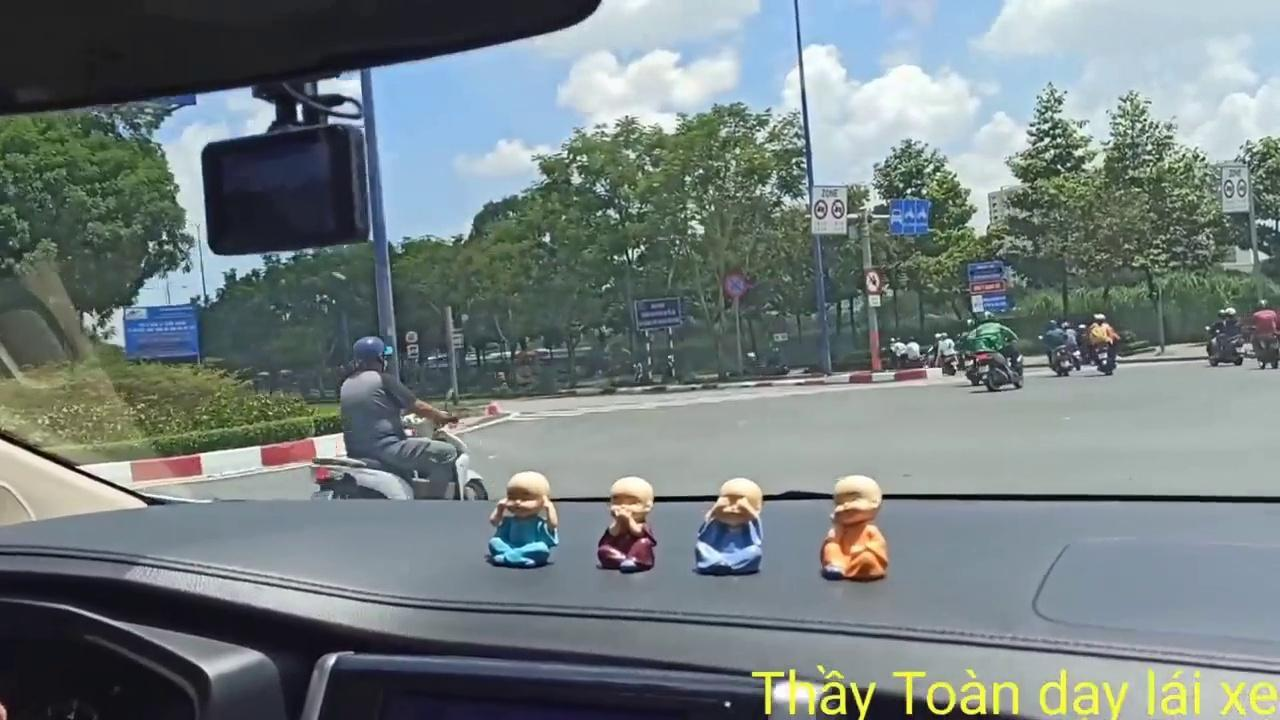Biển phụ: (407, 342, 420, 358)
Cấm cac phương tiện hoạt động trong khung giờ cố định: (810, 184, 848, 237)
Cấm dừng - Cấm đỗ: (723, 272, 747, 298)
Cấm xe máy: (864, 269, 882, 294)
Khác: (121, 304, 199, 358), (968, 261, 1010, 316)
Làn đường cho từng xe: (888, 197, 931, 236)
